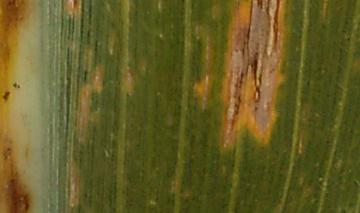tarspot: (81, 68, 89, 82), (1, 90, 11, 101), (12, 81, 21, 90), (70, 1, 80, 9), (6, 1, 17, 8), (351, 178, 360, 186), (305, 78, 312, 87), (337, 5, 346, 12), (253, 103, 259, 113), (82, 191, 88, 198), (344, 35, 350, 42), (319, 22, 326, 28), (324, 138, 330, 145), (340, 206, 345, 213)
